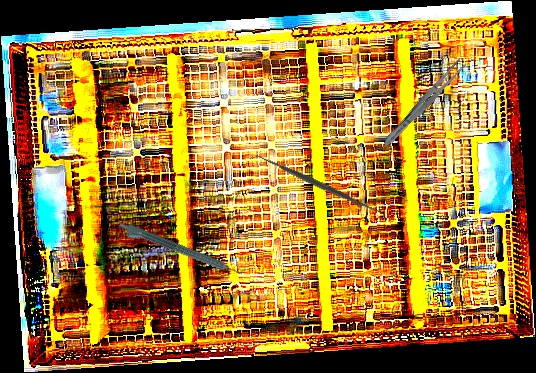Dressing Forceps: (380, 56, 468, 150)
Handpiece: (115, 219, 245, 284)
Spatula Surgical: (247, 146, 386, 221)
